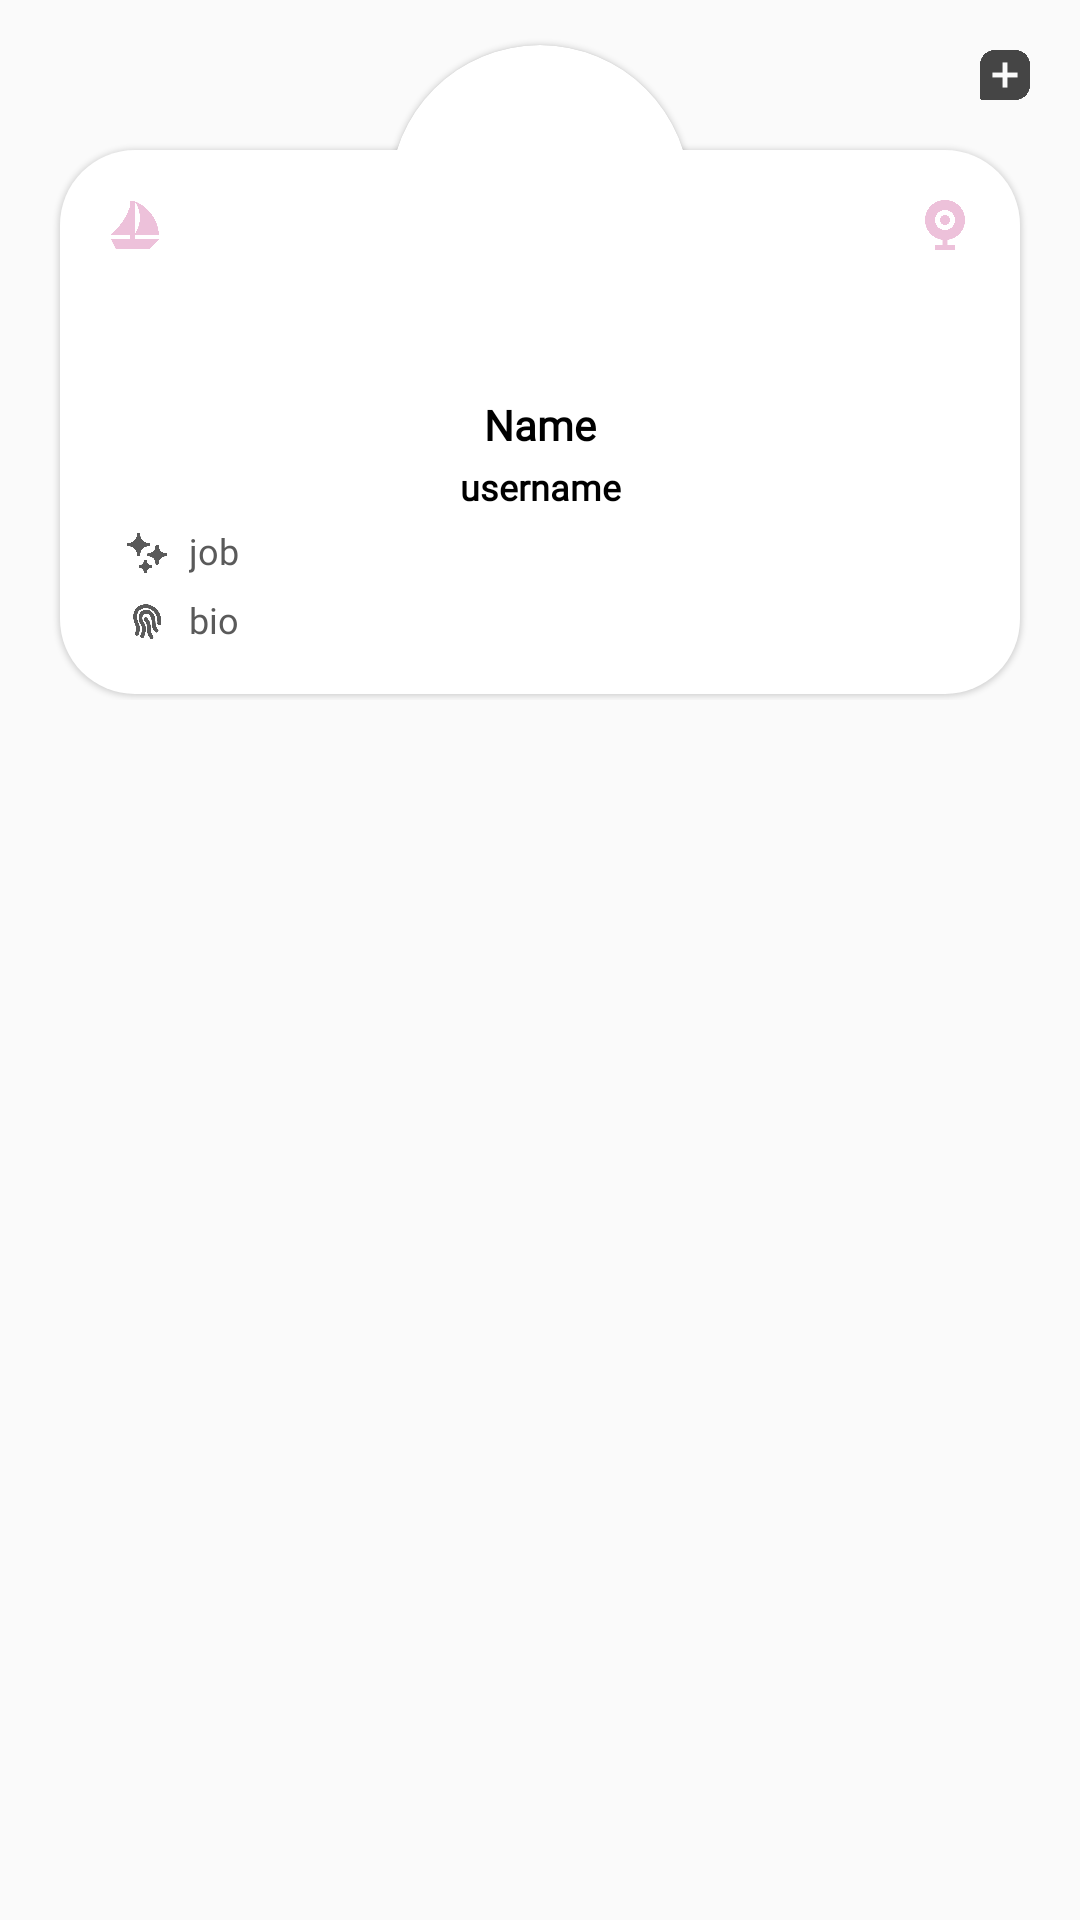

Where to tap for icons on this 1080x1920 app screen, as (x=x, y=y):
im add: (x=1005, y=75)
